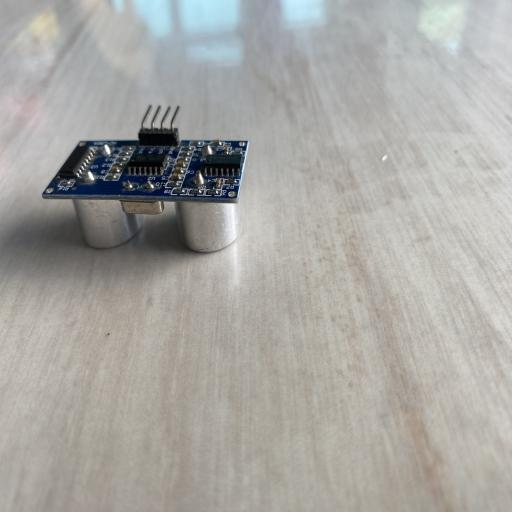Ultrasonic Sensor: (42, 104, 250, 254)
